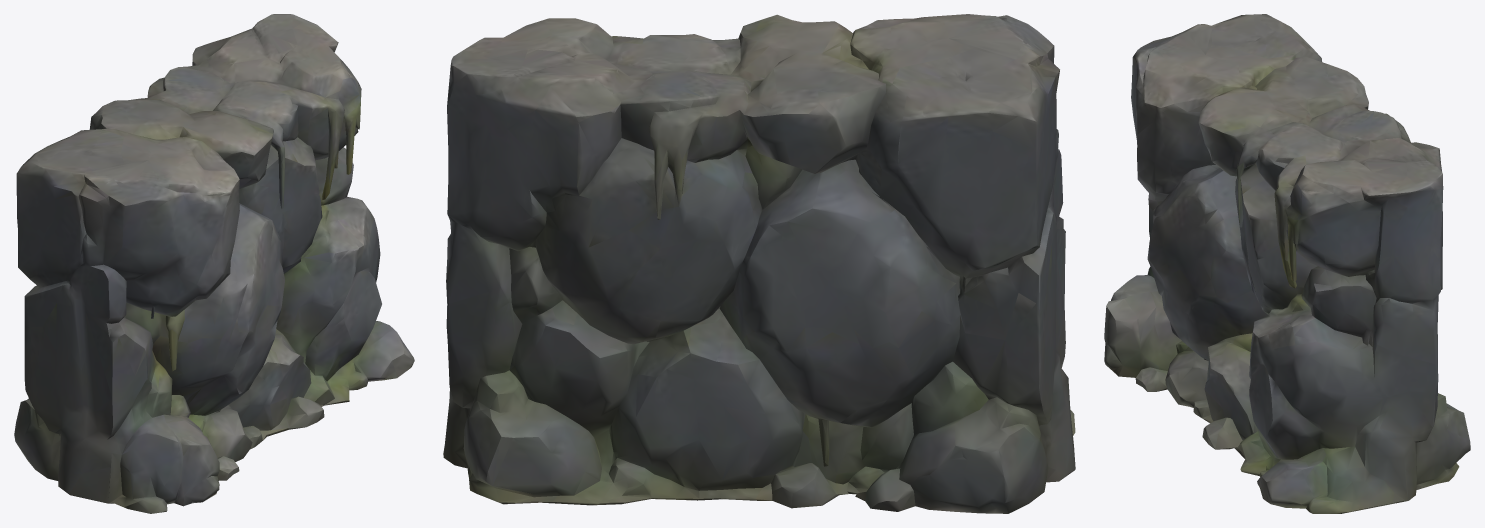
File: cueva_esquina_ext_6000.glb
3 views of the same model, side by side, from view 1: azimuth 30°, elevation 25°; view 2: azimuth 150°, elevation 25°; view 3: azimuth 270°, elevation 25° (orthographic). The views are drawn at different scales.
Parts seen in each view (by area): view 1: cueva_esquina_ext_malla; view 2: cueva_esquina_ext_malla; view 3: cueva_esquina_ext_malla.
Boxes of the visible parts, x1,y1,x2,y2 form: cueva_esquina_ext_malla: [14, 14, 414, 513]; cueva_esquina_ext_malla: [443, 14, 1075, 513]; cueva_esquina_ext_malla: [1104, 14, 1470, 513].
Size of the model in its own units: 0.4595 by 0.3353 by 0.3586.
1 material, 1 textured.
